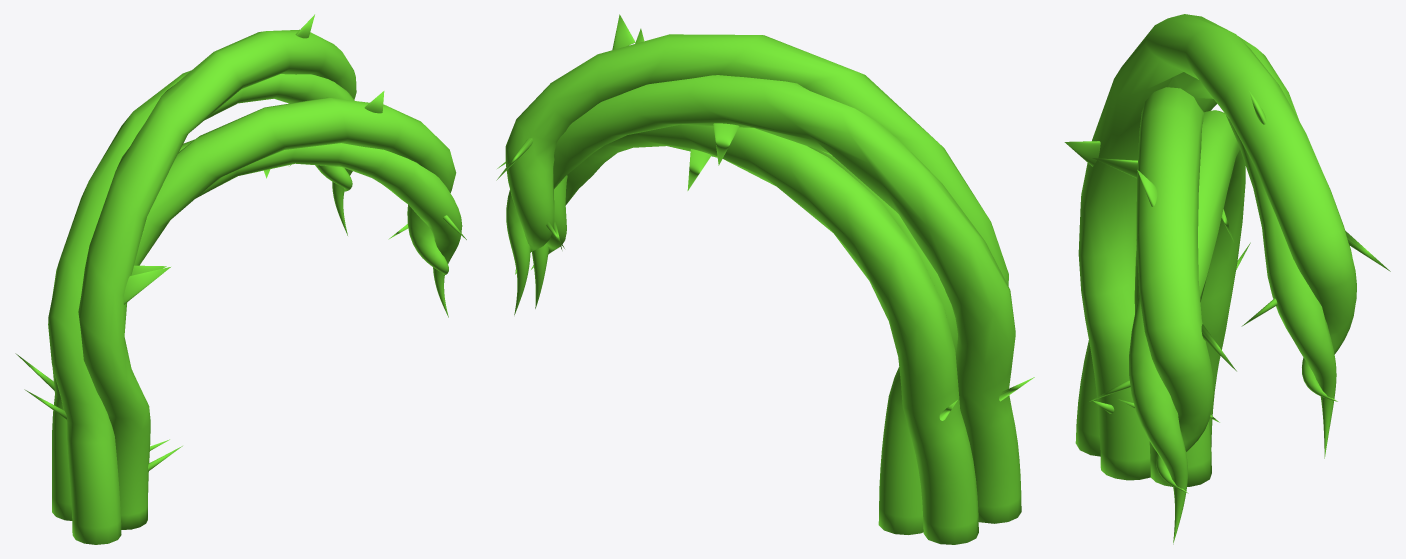
File: Retopo_Bk.fbx
3 renders of one model, left to right at view 1: azimuth 30°, elevation 25°; view 2: azimuth 150°, elevation 25°; view 3: azimuth 270°, elevation 25°, orthographic. The views are drawn at different scales.
Parts seen in each view (by area): view 1: Retopo_Cone2; view 2: Retopo_Cone2; view 3: Retopo_Cone2.
Boxes of the visible parts, left/top/right/bottom form: Retopo_Cone2: left=15, top=14, right=466, bottom=544; Retopo_Cone2: left=496, top=14, right=1034, bottom=544; Retopo_Cone2: left=1064, top=14, right=1390, bottom=544.
Bounding box in the file's own units: 443 × 396 × 224.
